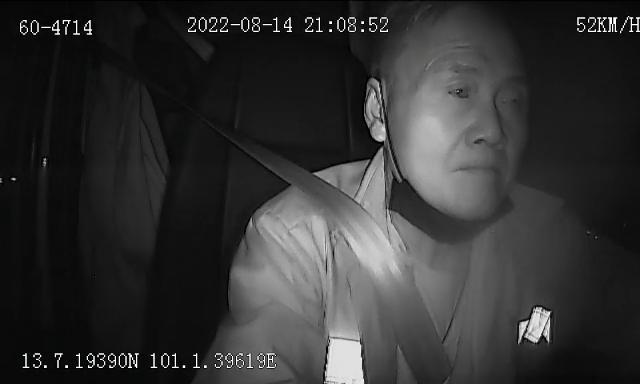SafeDriving: (440, 72, 478, 107), (493, 80, 528, 118)
Seatbelt: (180, 98, 452, 384)
